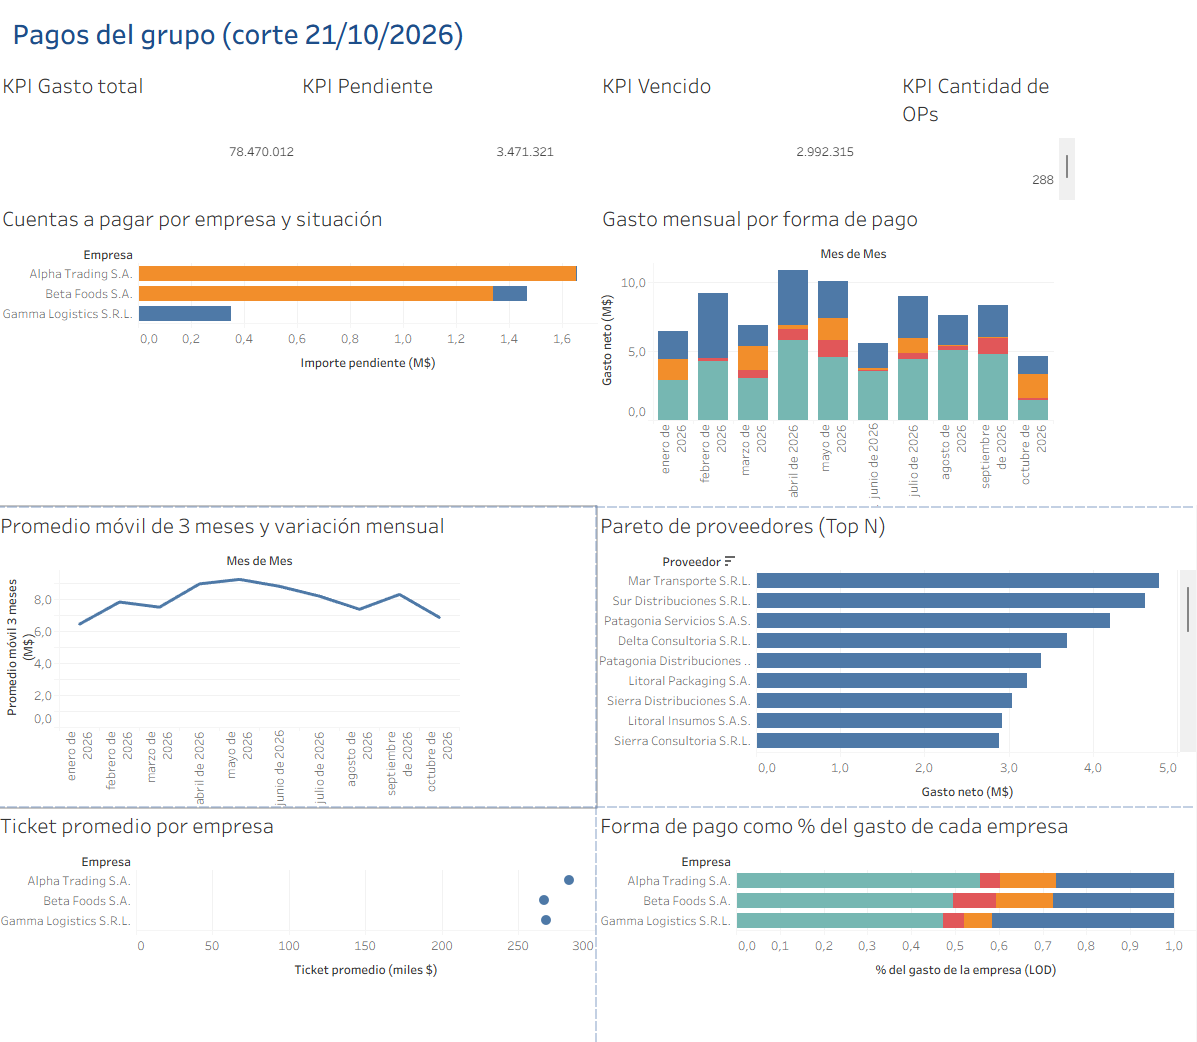

What the dashboard file says about the page in this screenshot:
{"tool":"tableau","page":{"name":"Pagos del grupo","canvas":[1200,1100],"ordinal":0},"visuals":[{"type":"title","box":[0,0,1200,66]},{"type":"worksheet","title":"KPI Gasto total","mark":"Text","box":[0,66,300,132]},{"type":"worksheet","title":"KPI Pendiente","mark":"Text","box":[300,66,300,132]},{"type":"worksheet","title":"KPI Vencido","mark":"Text","box":[600,66,300,132]},{"type":"worksheet","title":"KPI Cantidad de OPs","mark":"Text","box":[900,66,300,132]},{"type":"worksheet","title":"Cuentas a pagar","mark":"Bar","rows":["empresa"],"cols":["Calculation_Importe_pendiente__M__"],"box":[0,198,600,297]},{"type":"worksheet","title":"Gasto mensual","mark":"Bar","rows":["Calculation_Gasto_neto__M__"],"cols":["mes"],"box":[600,198,600,297]},{"type":"worksheet","title":"Tendencia y variación","mark":"Line","rows":["Calculation_Promedio_m_vil_3_meses__M__"],"cols":["mes"],"box":[0,495,600,297]},{"type":"worksheet","title":"Pareto de proveedores","mark":"Bar","rows":["proveedor"],"cols":["Calculation_Gasto_neto__M__"],"box":[600,495,600,297]},{"type":"worksheet","title":"Ticket promedio por empresa","mark":"Circle","rows":["empresa"],"cols":["Calculation_Ticket_promedio__miles___"],"box":[0,792,600,297]},{"type":"worksheet","title":"Mix de pago por empresa","mark":"Bar","rows":["empresa"],"cols":["Calculation___del_gasto_de_la_empresa__LOD_"],"box":[600,792,600,297]}]}

Visuals, with their boxes on the page's 1200x1100 design canvas (x1, y1, x2, y2). These are canvas units, not pixel positions in the 1197x1042 screenshot, which may show the page scaled, cropped or inside an application window:
title: <box>0,0,1200,66</box>
"KPI Gasto total" worksheet (Text marks): <box>0,66,300,198</box>
"KPI Pendiente" worksheet (Text marks): <box>300,66,600,198</box>
"KPI Vencido" worksheet (Text marks): <box>600,66,900,198</box>
"KPI Cantidad de OPs" worksheet (Text marks): <box>900,66,1200,198</box>
"Cuentas a pagar" worksheet (Bar marks): <box>0,198,600,495</box>
"Gasto mensual" worksheet (Bar marks): <box>600,198,1200,495</box>
"Tendencia y variación" worksheet (Line marks): <box>0,495,600,792</box>
"Pareto de proveedores" worksheet (Bar marks): <box>600,495,1200,792</box>
"Ticket promedio por empresa" worksheet (Circle marks): <box>0,792,600,1089</box>
"Mix de pago por empresa" worksheet (Bar marks): <box>600,792,1200,1089</box>
